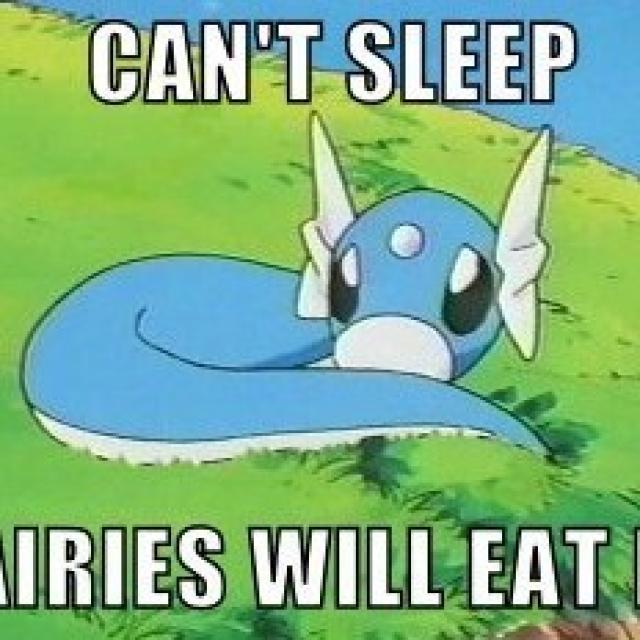Dratini: (19, 105, 573, 484)
